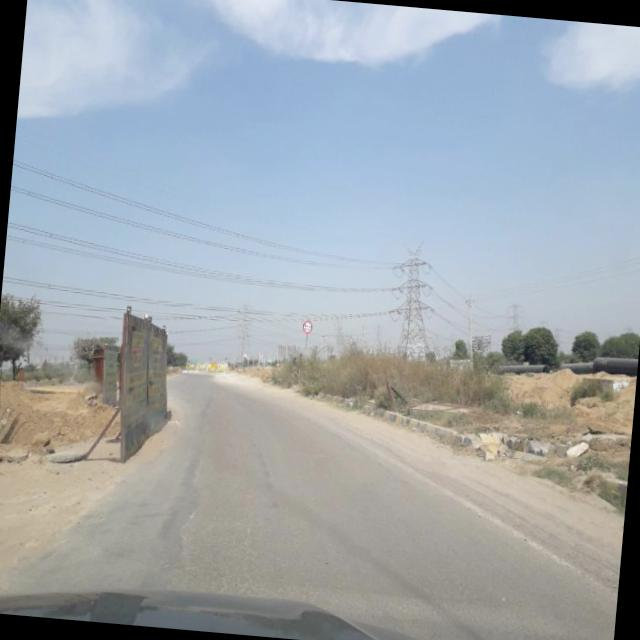crack: (166, 504, 264, 595)
